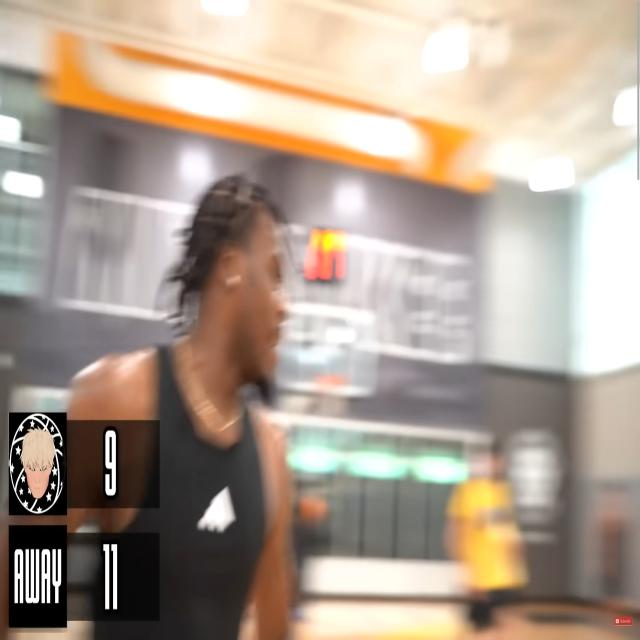Player: (162, 170, 290, 640)
